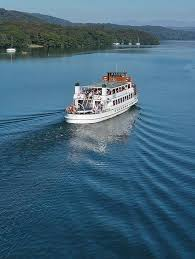boat: (63, 64, 140, 125)
